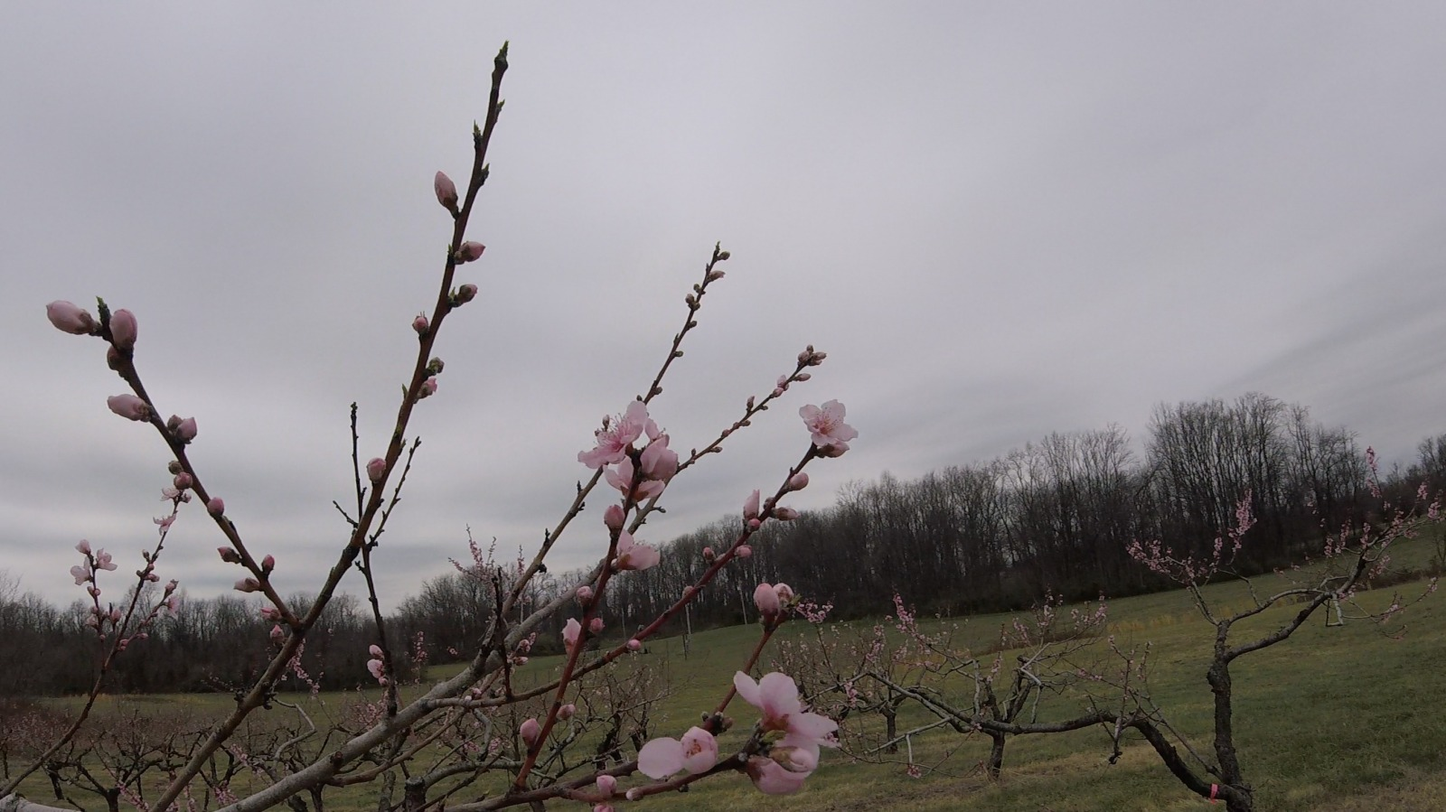flower: (734, 671, 842, 796), (578, 400, 681, 501), (638, 727, 719, 779), (800, 399, 859, 457), (616, 528, 661, 571), (46, 301, 103, 334), (754, 581, 794, 623), (109, 309, 138, 353), (108, 394, 153, 417), (456, 230, 486, 262), (435, 172, 458, 211), (70, 556, 93, 586), (154, 511, 179, 537), (367, 659, 389, 686), (163, 594, 184, 621), (96, 548, 117, 572), (562, 618, 582, 643), (605, 505, 625, 528), (743, 490, 760, 517), (174, 415, 197, 434), (784, 473, 809, 490), (520, 719, 540, 739), (597, 776, 616, 793), (160, 486, 180, 502), (75, 540, 92, 555), (370, 645, 385, 659), (175, 475, 180, 481)
